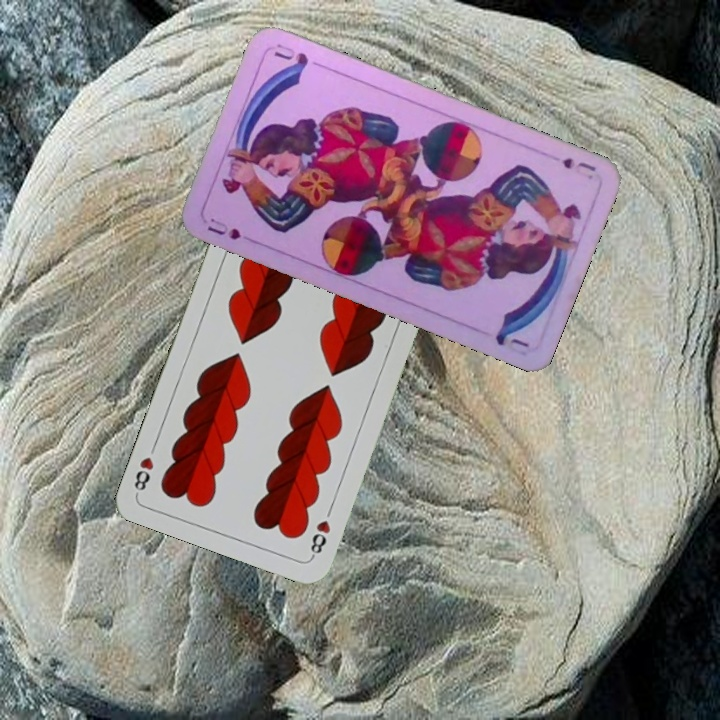H8: (306, 516, 333, 561)
SU: (203, 214, 244, 243), (558, 153, 599, 175)
